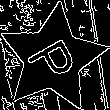P_NE: (22, 30, 83, 87)
